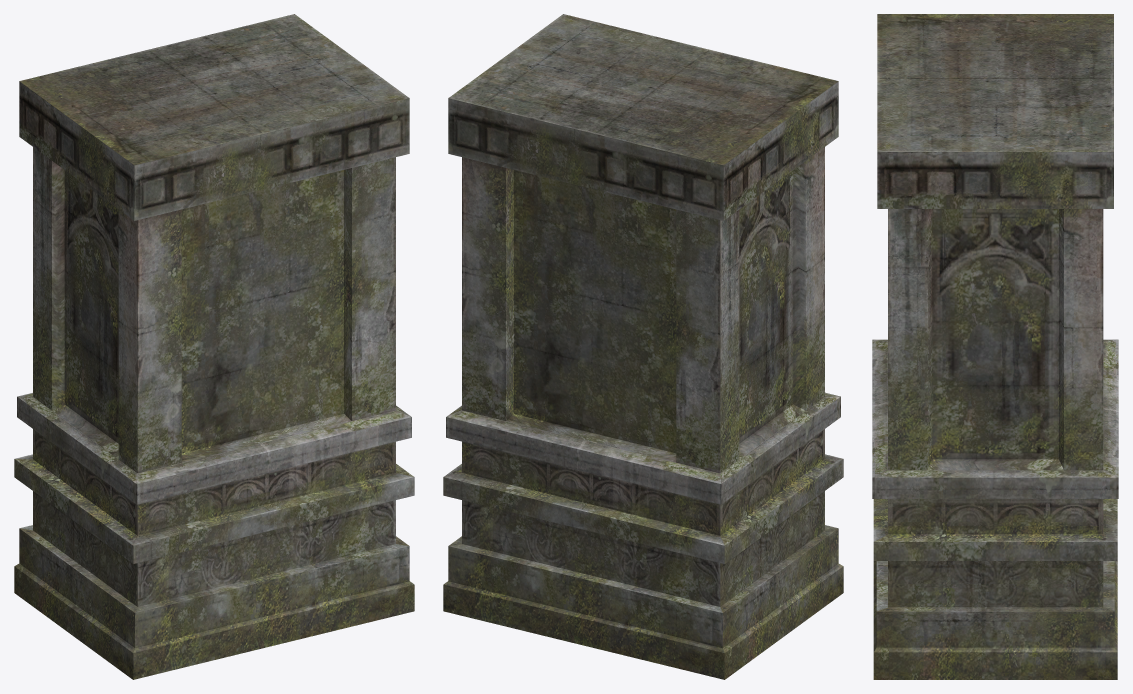
File: bg_lut_lucastle_brosepillar01a_sm_psy.FBX
3 renders of one model, left to right at view 1: azimuth 30°, elevation 25°; view 2: azimuth 150°, elevation 25°; view 3: azimuth 270°, elevation 25°, orthographic. The views are drawn at different scales.
Parts seen in each view (by area): view 1: bg_lut_lucastle_brosepillar01a_sm_psy; view 2: bg_lut_lucastle_brosepillar01a_sm_psy; view 3: bg_lut_lucastle_brosepillar01a_sm_psy.
Part boxes in pixels (x1,y1,x2,y2): bg_lut_lucastle_brosepillar01a_sm_psy: (14, 14, 414, 679); bg_lut_lucastle_brosepillar01a_sm_psy: (443, 14, 843, 679); bg_lut_lucastle_brosepillar01a_sm_psy: (872, 14, 1118, 679).
Size of the model in its own units: 175 by 305 by 129.
